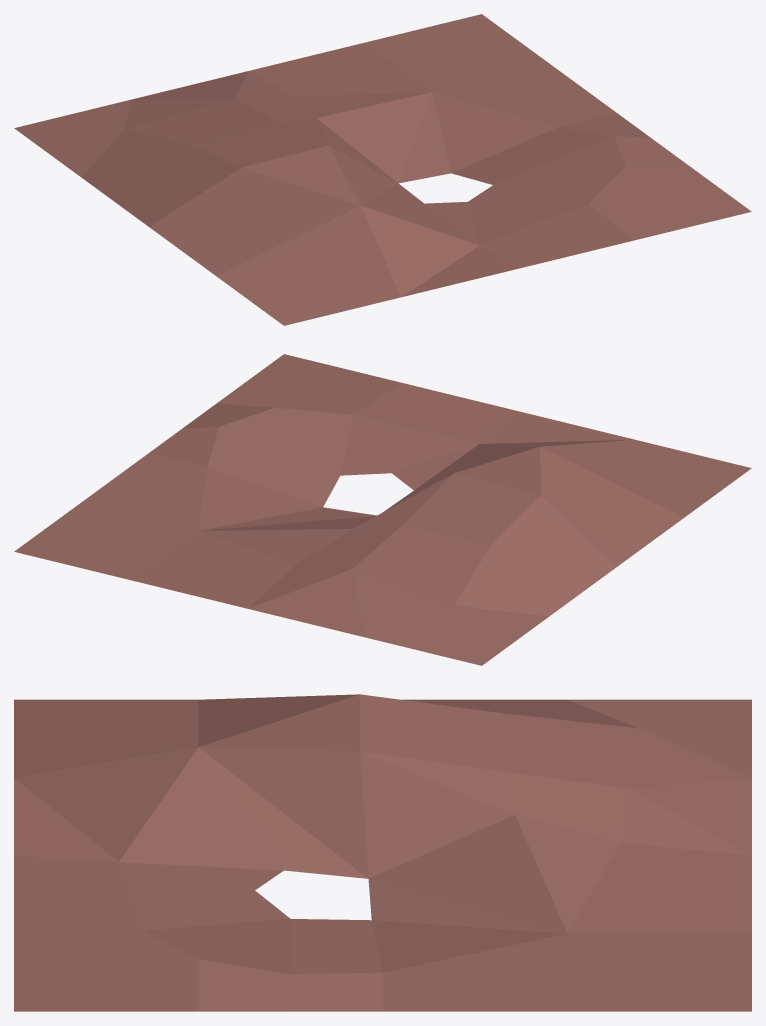
Rendered from FloorHole04.fbx.
3 renders of one model, top to bottom at view 1: azimuth 30°, elevation 25°; view 2: azimuth 150°, elevation 25°; view 3: azimuth 270°, elevation 25°, orthographic. The views are drawn at different scales.
Visible parts, largest first — view 1: FloorHole04; view 2: FloorHole04; view 3: FloorHole04.
Part boxes in pixels (<box>): FloorHole04: <box>14,14,751,325</box>; FloorHole04: <box>14,354,751,665</box>; FloorHole04: <box>14,694,751,1011</box>.
Bounding box in the file's own units: 2032 × 257 × 2032.
